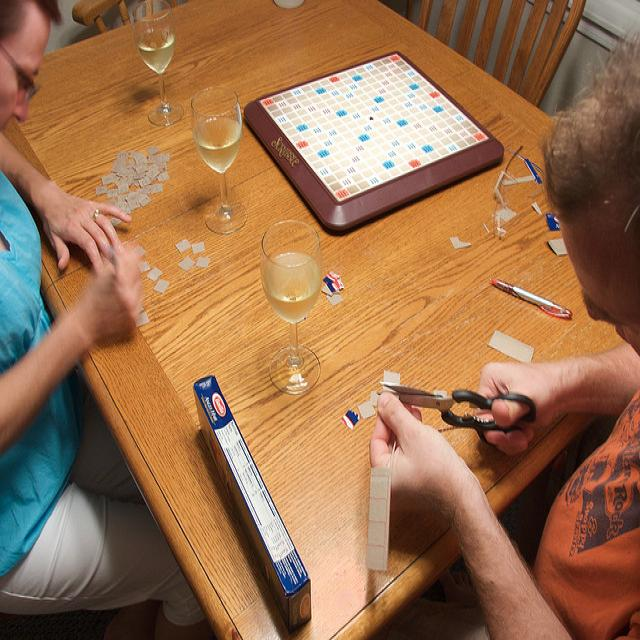chair: (407, 0, 585, 109)
dining table: (17, 8, 618, 633)
